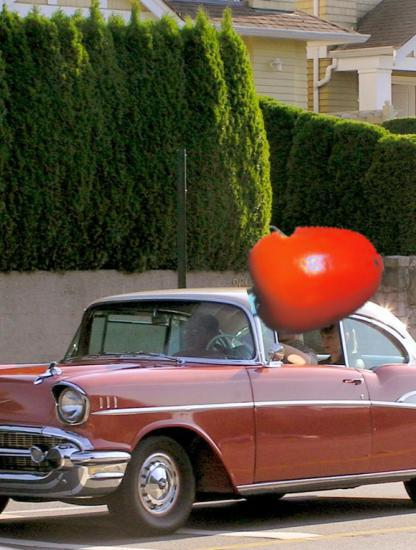Kaki: (245, 207, 385, 347)
